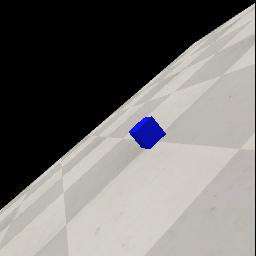box: (129, 116, 166, 149)
